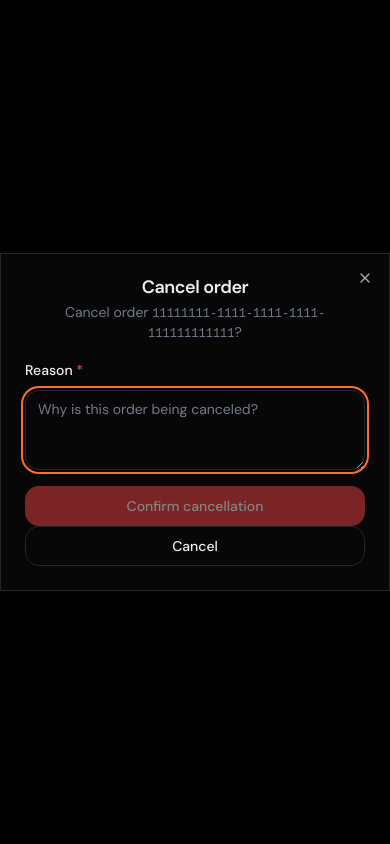
Scenario: CancelOrderModal - validation › enables submit when reason is non-empty after trim
Type "customer requested cancellation" into the text box labelled "Reason *" at [195, 430], box [25,390,365,470]
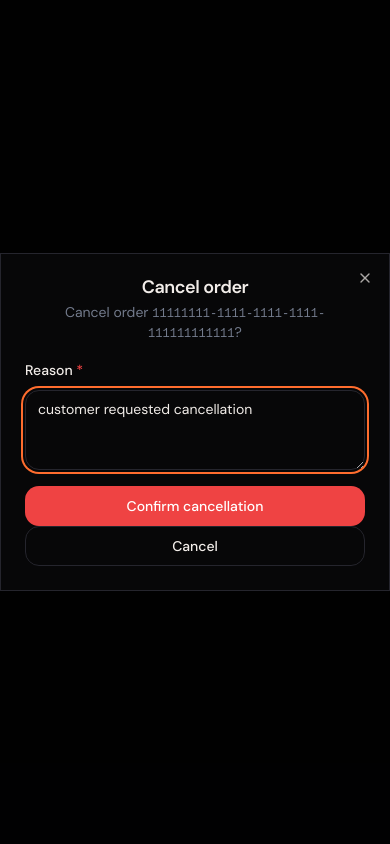
Result: the button with test id "cancel-order-confirm" is enabled at [25,486,365,526]
